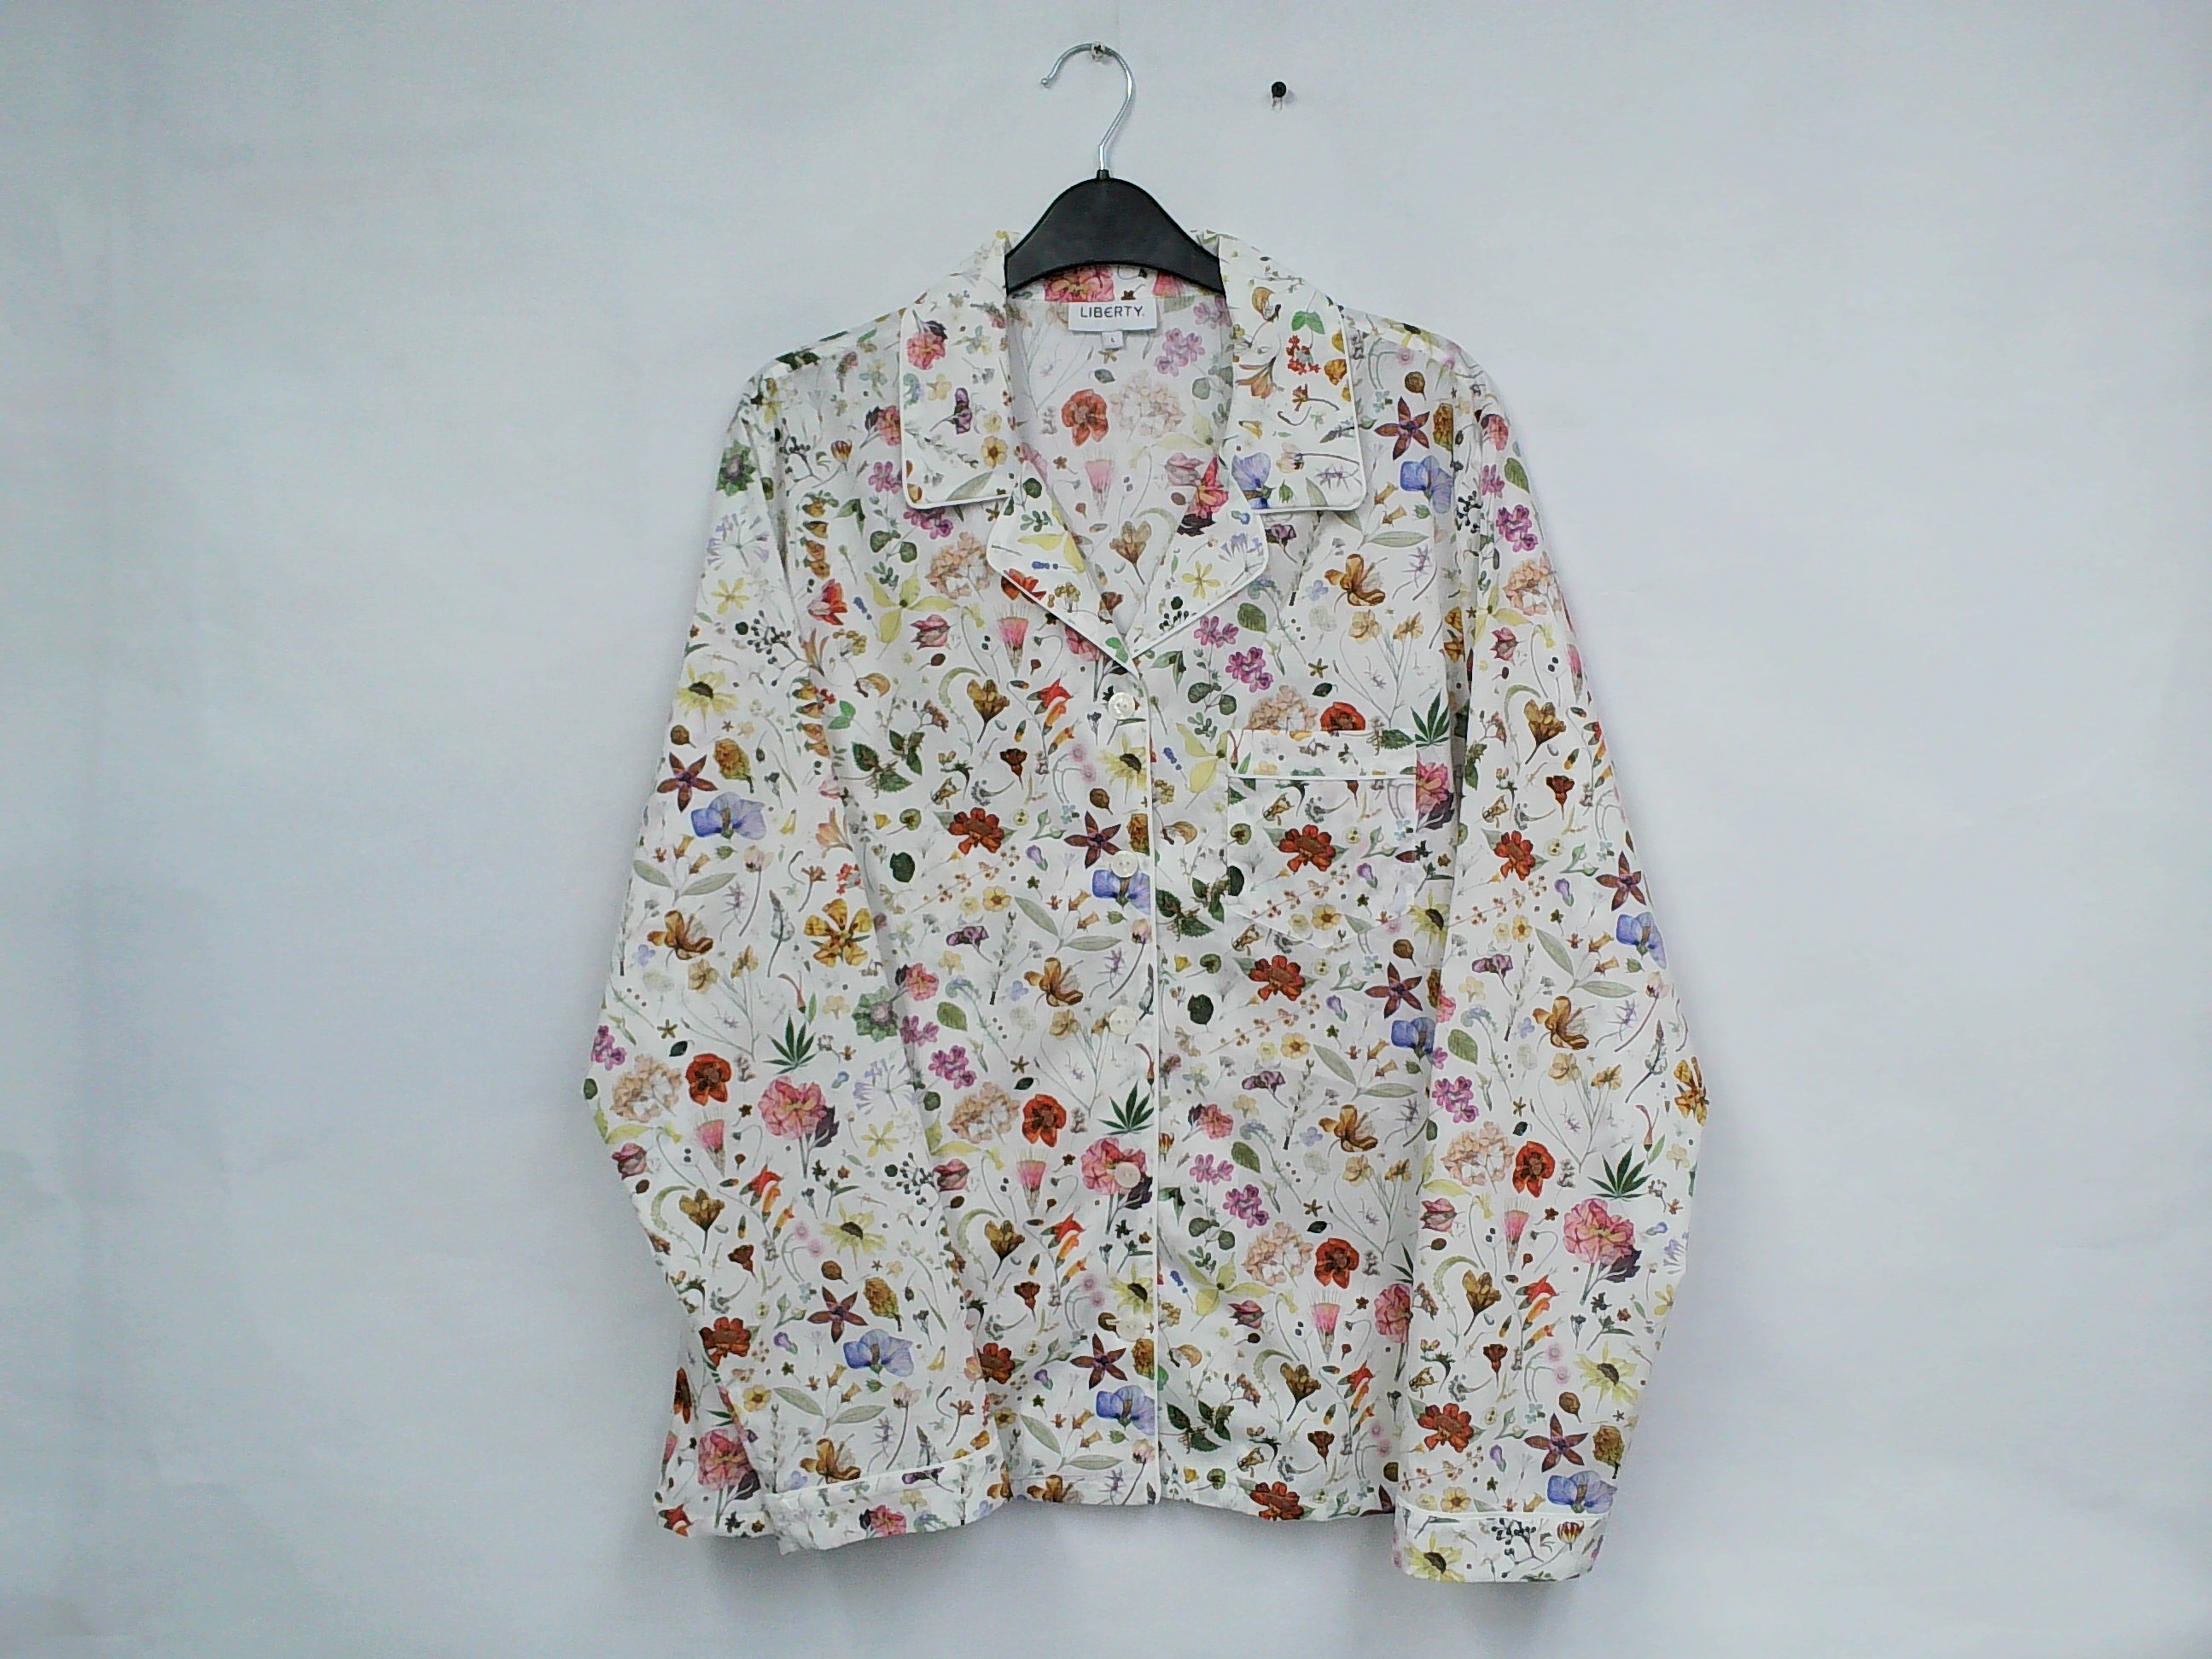deformation: (1200, 467, 1327, 551)
